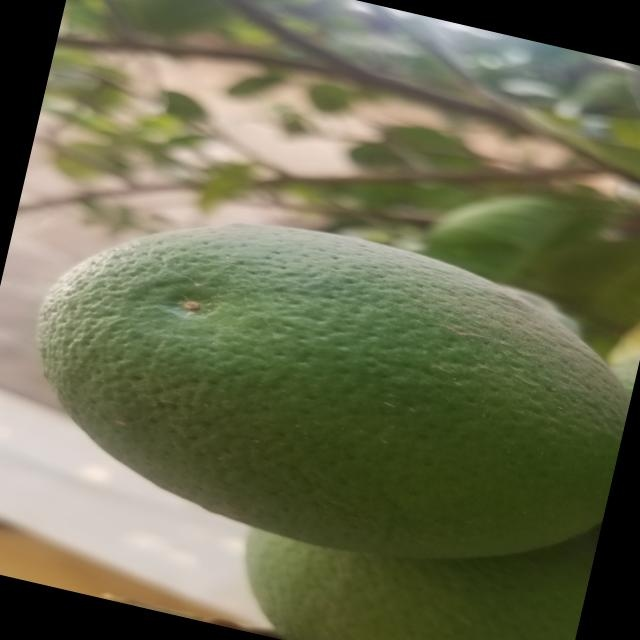agrume: (7, 173, 640, 605), (239, 448, 592, 640)
